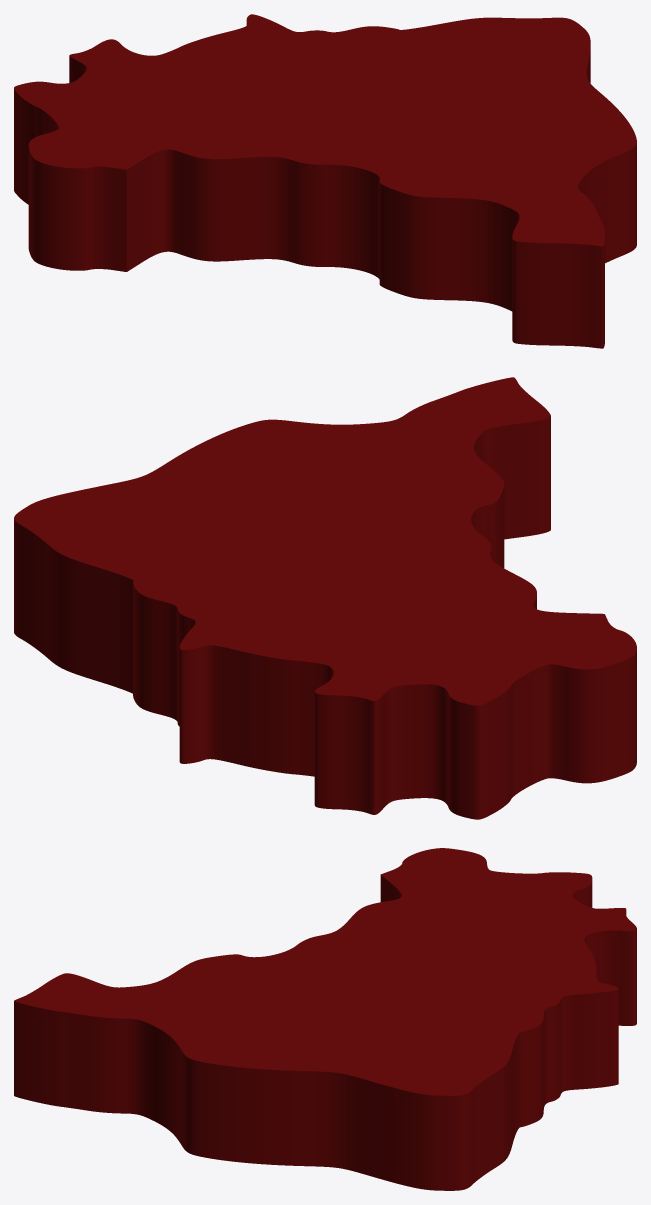
Rendered from South_America_02.obj.
3 views of the same model, one above another, from view 1: azimuth 30°, elevation 25°; view 2: azimuth 150°, elevation 25°; view 3: azimuth 270°, elevation 25° (orthographic). The views are drawn at different scales.
Parts seen in each view (by area): view 1: South_America_02_path4210; view 2: South_America_02_path4210; view 3: South_America_02_path4210.
Part boxes in pixels (left/top/right/bottom): South_America_02_path4210: left=14, top=14, right=636, bottom=348; South_America_02_path4210: left=14, top=377, right=636, bottom=819; South_America_02_path4210: left=14, top=848, right=636, bottom=1190.
Size of the model in its own units: 0.5592 by 0.1 by 0.5942.
